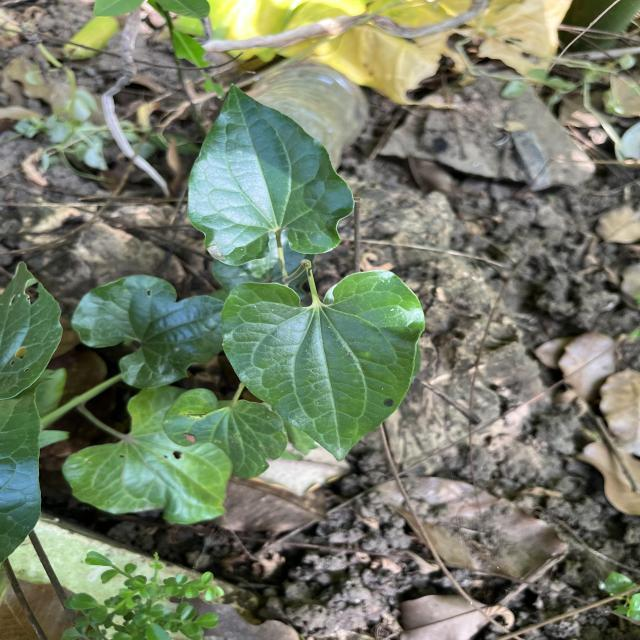Piper longum: (216, 267, 429, 465), (184, 80, 358, 268)
